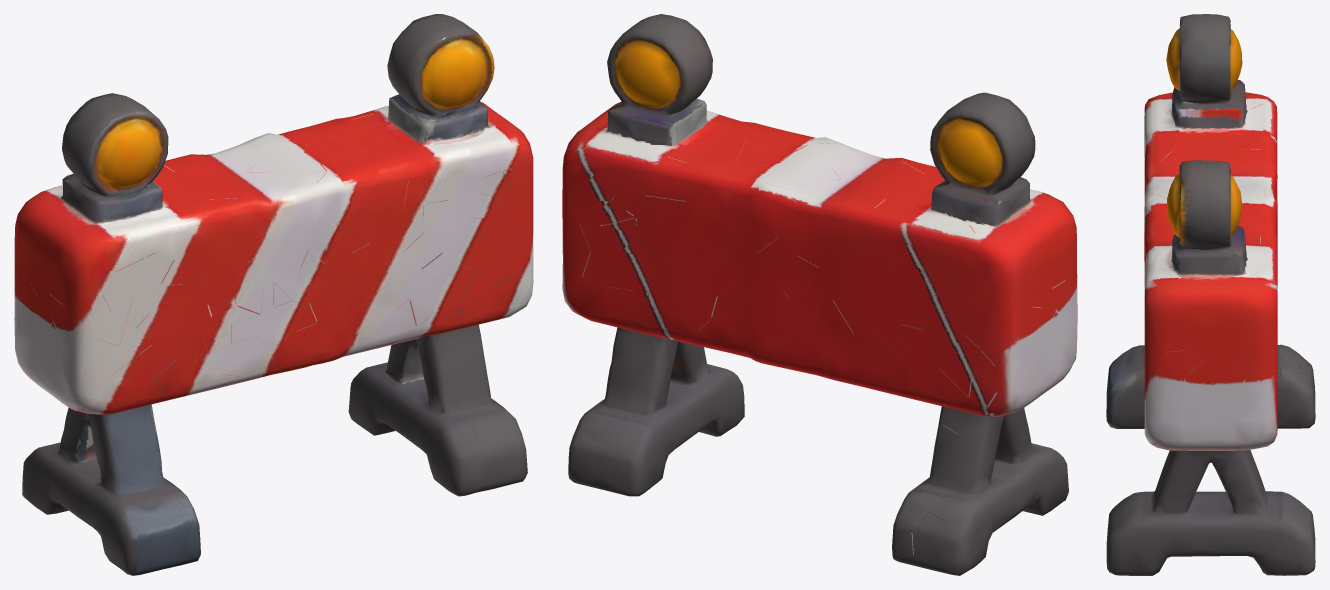
File: roadworks-barrier.glb
The picture shows the model from 3 angles, left to right: view 1: azimuth 30°, elevation 25°; view 2: azimuth 150°, elevation 25°; view 3: azimuth 270°, elevation 25°; orthographic projection. The views are drawn at different scales.
Parts seen in each view (by area): view 1: geometry_0; view 2: geometry_0; view 3: geometry_0.
Boxes of the visible parts, <box> form: geometry_0: <box>14,14,533,575</box>; geometry_0: <box>562,14,1077,575</box>; geometry_0: <box>1106,14,1315,575</box>.
Bounding box in the file's own units: 1.99 × 1.78 × 0.8519.
Materials: 1 (1 with a texture image).
